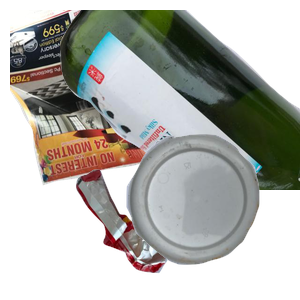glass: (60, 10, 300, 190)
paper: (10, 10, 241, 188)
plastic: (124, 132, 300, 300)
trash: (74, 167, 235, 300)
